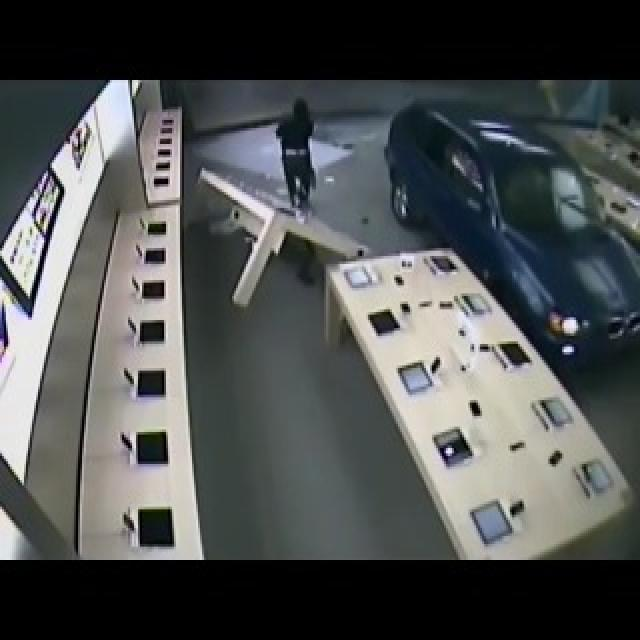thief: (268, 97, 326, 213)
